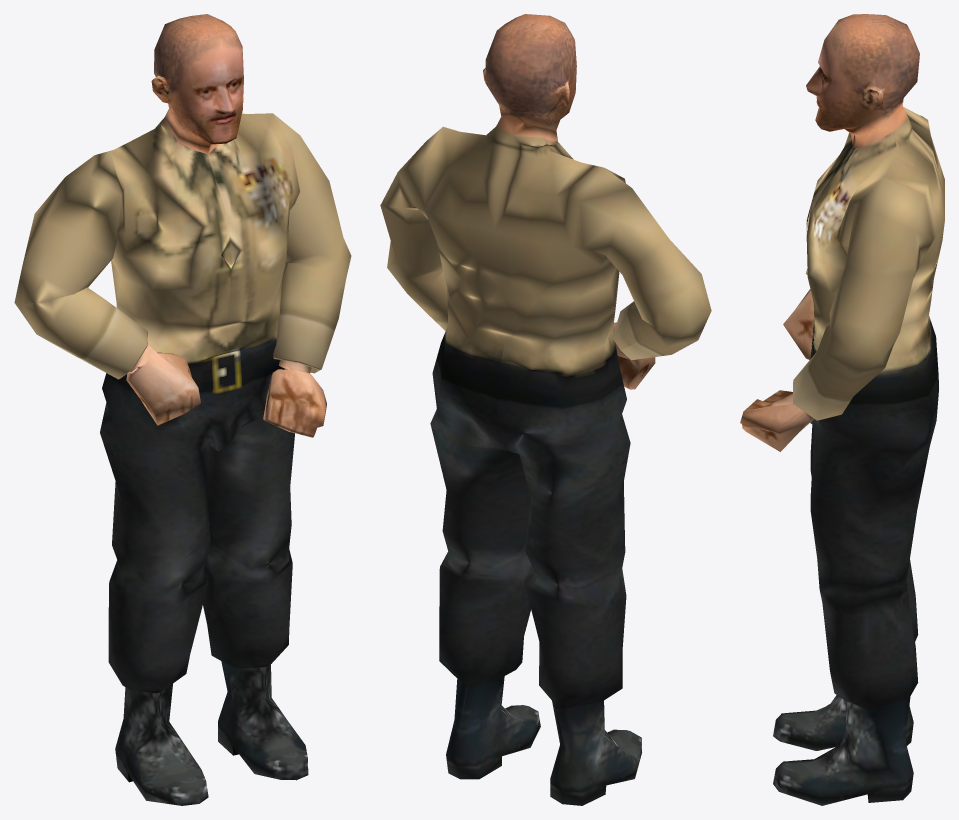
Rendered from USCOMMANDER.glb.
The picture shows the model from 3 angles, left to right: view 1: azimuth 30°, elevation 25°; view 2: azimuth 150°, elevation 25°; view 3: azimuth 270°, elevation 25°; orthographic projection.
Parts seen in each view (by area): view 1: NEWSKIN; view 2: NEWSKIN; view 3: NEWSKIN.
Boxes of the visible parts, x1=… form: NEWSKIN: x1=14, y1=14, x2=351, y2=805; NEWSKIN: x1=380, y1=14, x2=711, y2=805; NEWSKIN: x1=740, y1=14, x2=944, y2=805.
Size of the model in its own units: 0.7907 by 1.76 by 0.4384.
1 material, 1 textured.
